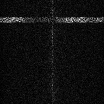wifi: (1, 16, 104, 22)
